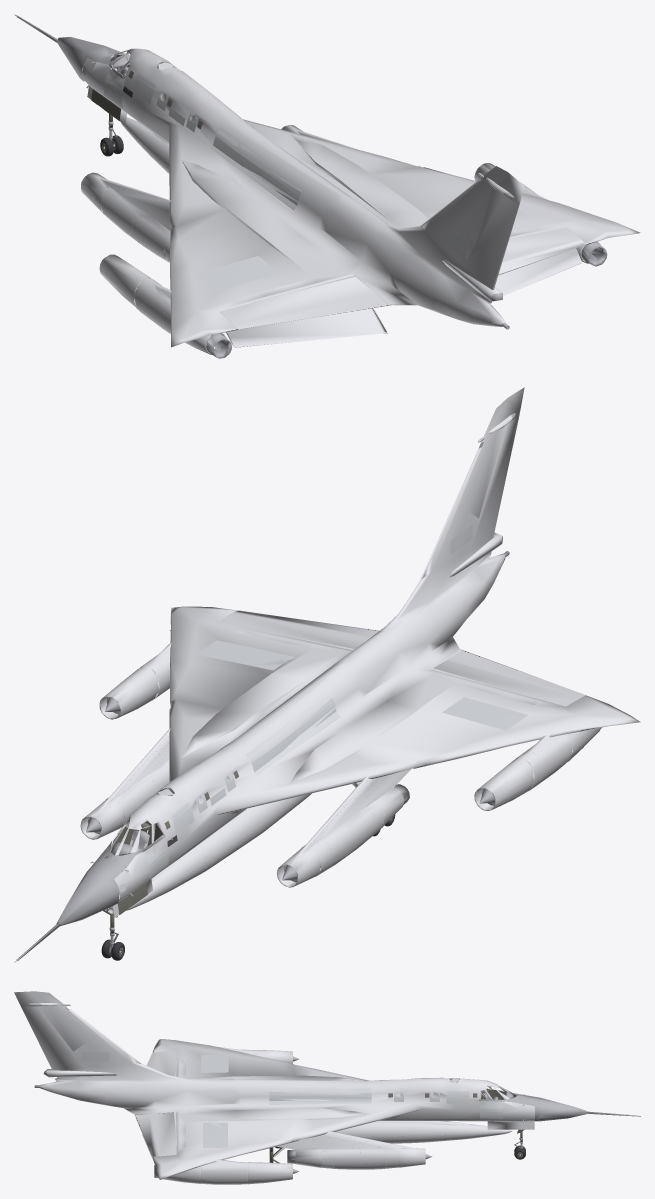
3 views of the same model, one above another, from view 1: azimuth 30°, elevation 25°; view 2: azimuth 150°, elevation 25°; view 3: azimuth 270°, elevation 25° (orthographic). The views are drawn at different scales.
Visible parts, largest first — view 1: 1_-_Copy_(5); view 2: 1_-_Copy_(5); view 3: 1_-_Copy_(5).
Part boxes in pixels (bbox=[...]): 1_-_Copy_(5): bbox=[14, 14, 640, 358]; 1_-_Copy_(5): bbox=[14, 387, 640, 962]; 1_-_Copy_(5): bbox=[14, 991, 640, 1184].
Bounding box in the file's own units: 1568 × 882 × 2950.
2 materials, 2 textured.
